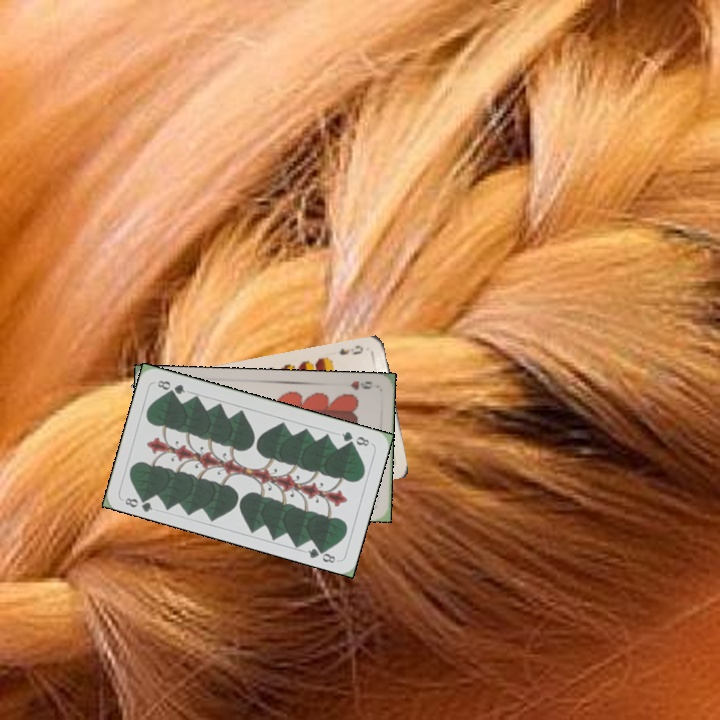E9: (335, 341, 366, 358)
G8: (121, 491, 155, 514), (338, 427, 372, 449)
H9: (346, 377, 375, 392)
